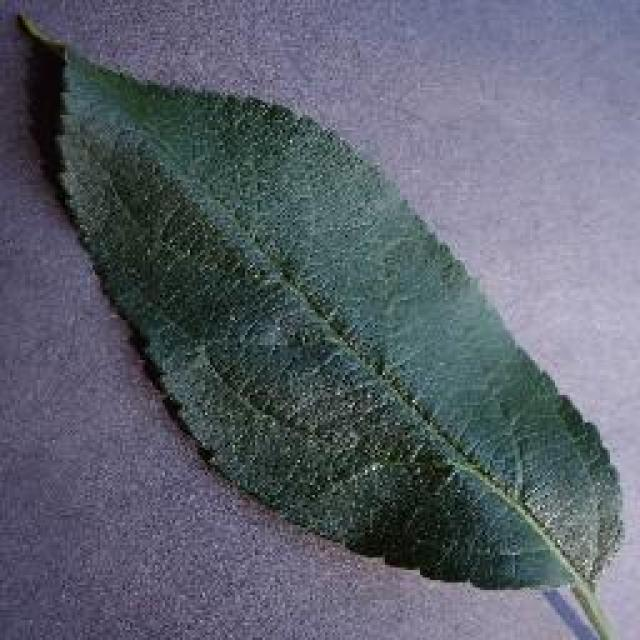apple healthy: (13, 8, 625, 638)
